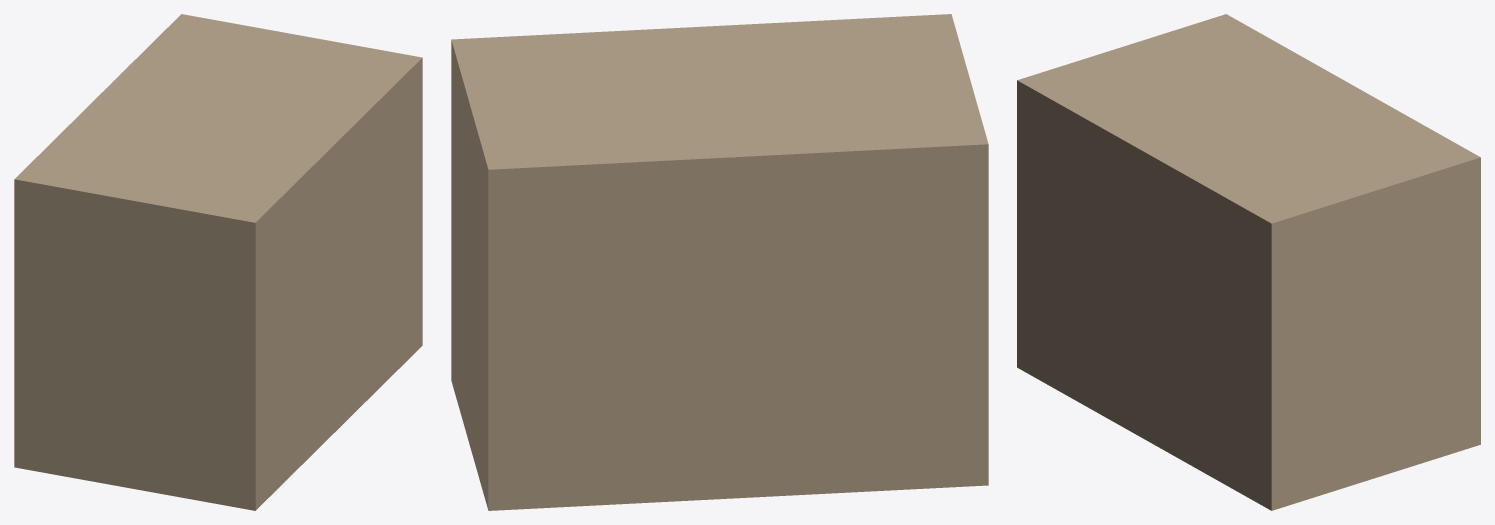
File: bld_105794220.dae
3 renders of one model, left to right at view 1: azimuth 30°, elevation 25°; view 2: azimuth 150°, elevation 25°; view 3: azimuth 270°, elevation 25°, orthographic. The views are drawn at different scales.
Parts seen in each view (by area): view 1: bld_105794220; view 2: bld_105794220; view 3: bld_105794220.
Part boxes in pixels (x1=…): bld_105794220: x1=14, y1=14, x2=422, y2=510; bld_105794220: x1=451, y1=14, x2=988, y2=510; bld_105794220: x1=1017, y1=14, x2=1480, y2=510.
Size of the model in its own units: 12.52 by 11.7 by 8.
